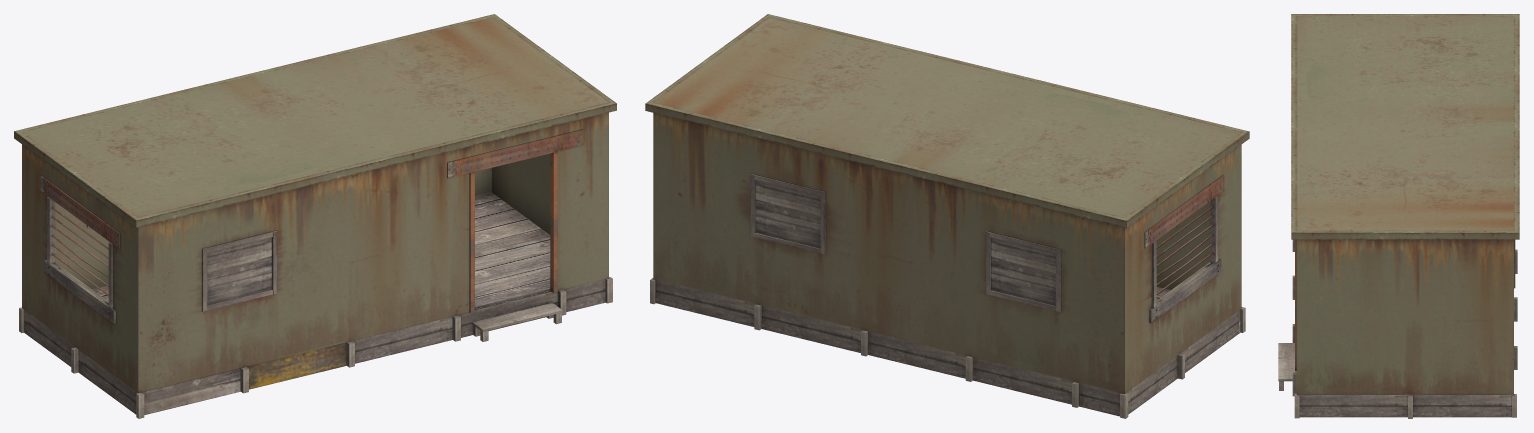
Rendered from freight_container.glb.
3 views of the same model, side by side, from view 1: azimuth 30°, elevation 25°; view 2: azimuth 150°, elevation 25°; view 3: azimuth 270°, elevation 25° (orthographic). The views are drawn at different scales.
Parts seen in each view (by area): view 1: Building; view 2: Building; view 3: Building.
Part boxes in pixels (x1=…): Building: x1=14, y1=14, x2=616, y2=418; Building: x1=645, y1=14, x2=1249, y2=418; Building: x1=1278, y1=14, x2=1519, y2=418.
Size of the model in its own units: 14.3 by 5.68 by 6.66.
Materials: 1 (1 with a texture image).
